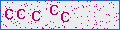C: (61, 12, 69, 22), (50, 5, 58, 15), (32, 11, 40, 21), (17, 9, 25, 19), (5, 9, 13, 19)
